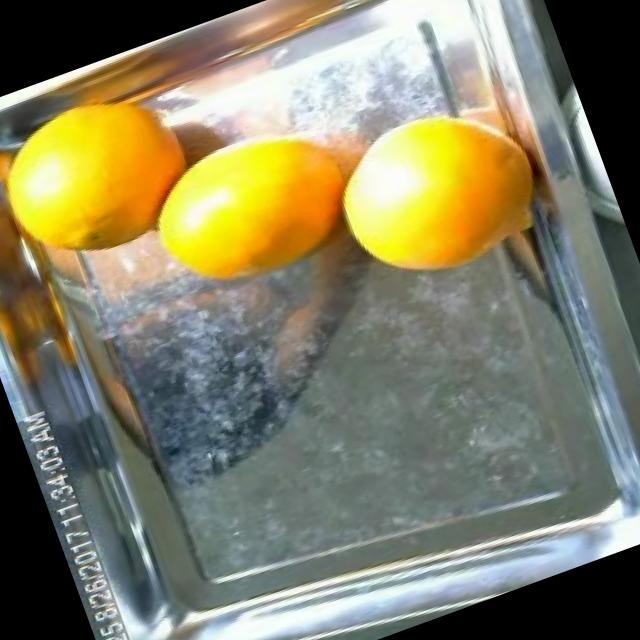Fruit: (302, 70, 557, 314)
